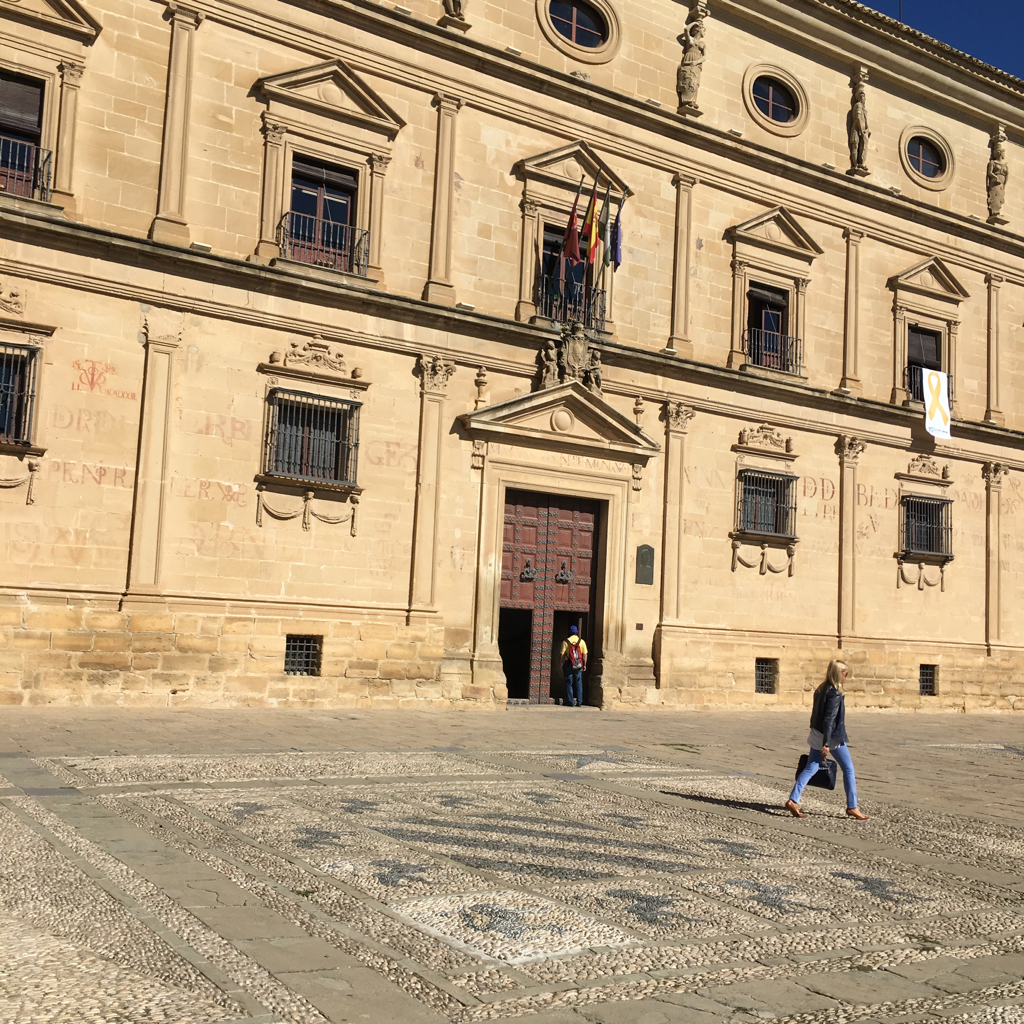fronton: (458, 380, 659, 463), (244, 51, 402, 133), (508, 136, 637, 202), (722, 195, 822, 265), (890, 245, 969, 304)
vano-adintelado: (470, 474, 626, 711), (258, 116, 383, 280), (1, 27, 83, 201), (516, 199, 618, 336), (723, 258, 812, 379), (891, 301, 965, 413)
